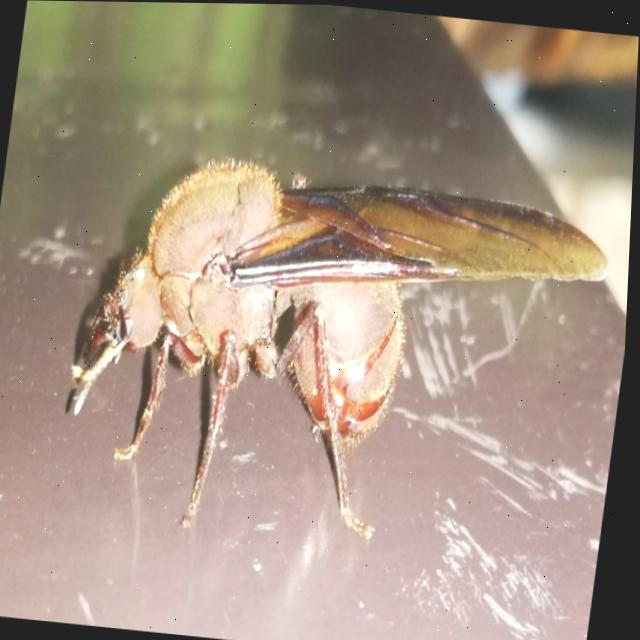Alive-Female-Alate: (53, 140, 621, 567)
